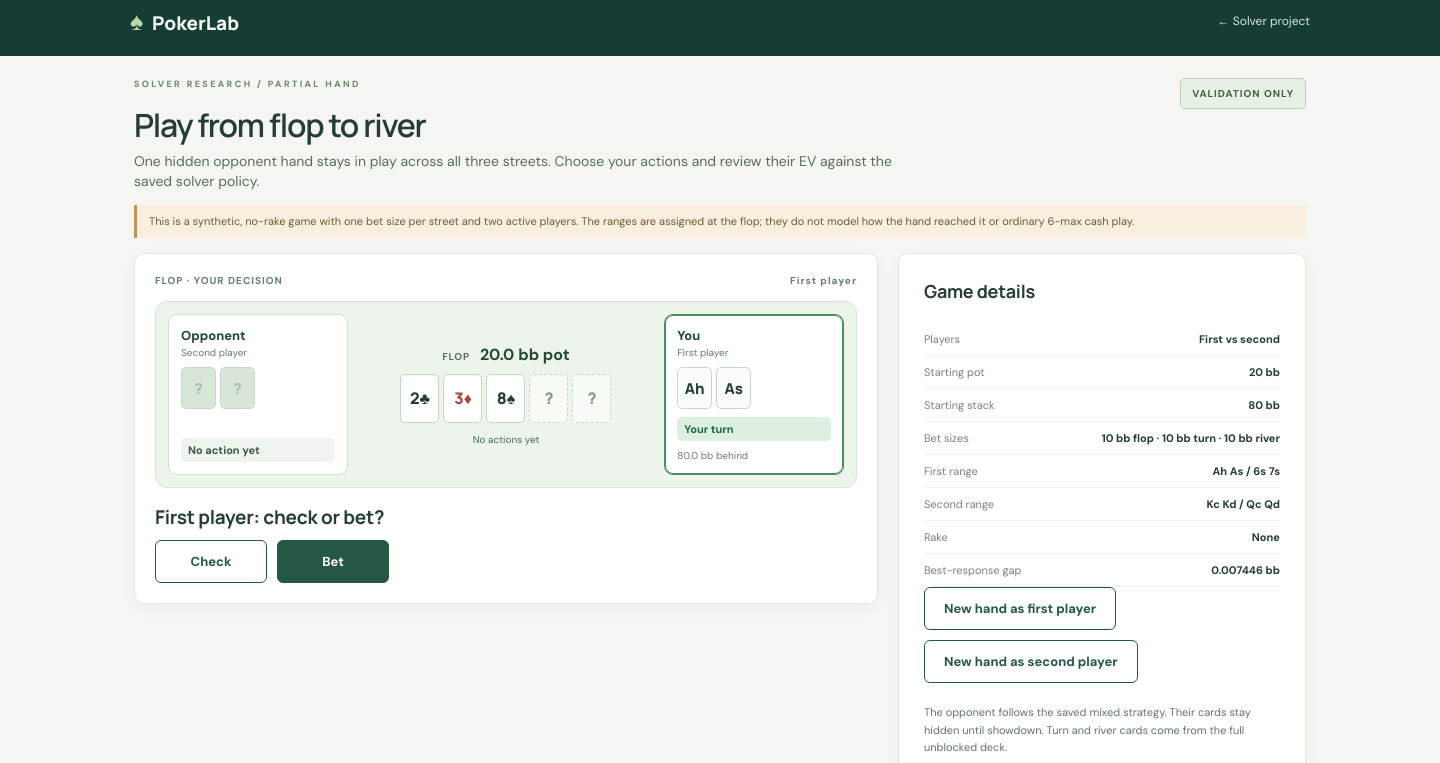
Test case: plays one connected three-street hand and reveals the opponent at showdown
Check: the heading "First player: check or bet?" is shown, box [155,504,384,530]
Check: the element named "Players and table" shows "20.0 bb pot", box [155,301,857,488]
Click the button "Check": (211, 562) [155,540,267,584]
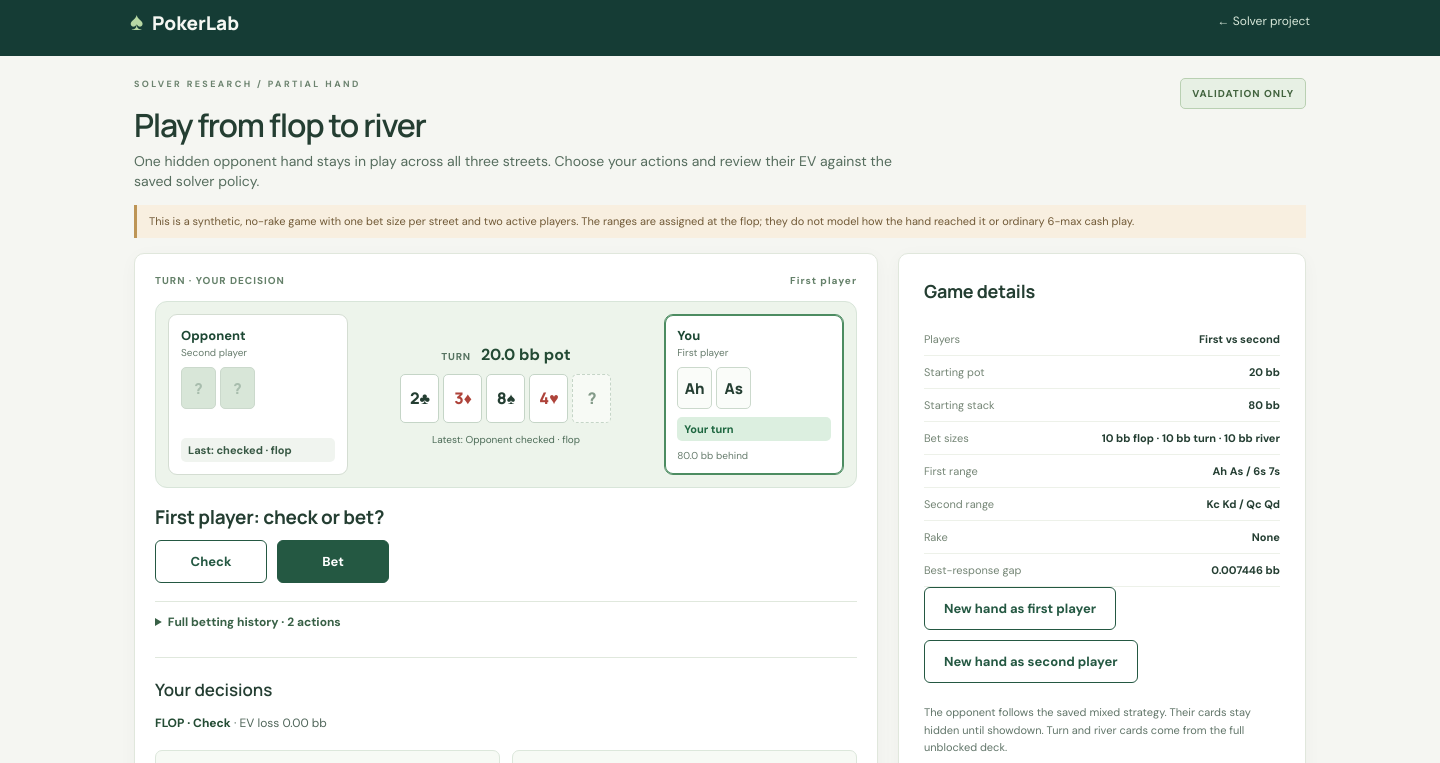
Check: the text "4♥" is shown, box [530,374,568,423]
Check: the element named "Players and table" shows "Latest: Opponent checked · flop", box [432,433,580,446]
Click the button "Check": (211, 562) [155,540,267,584]
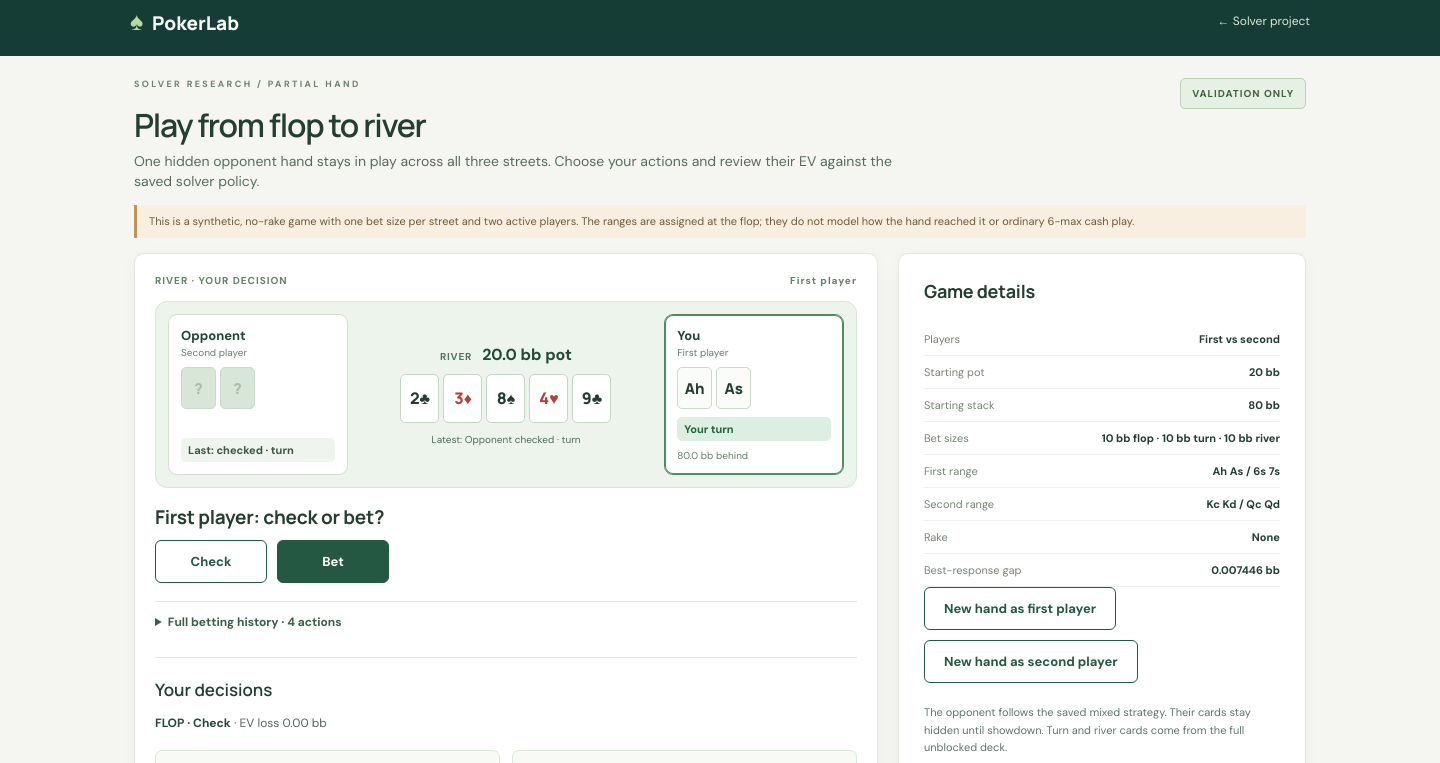
Check: the text "9♣" is shown, box [572,374,612,423]
Click the button "Check": (211, 562) [155,540,267,584]
(page scrolled)
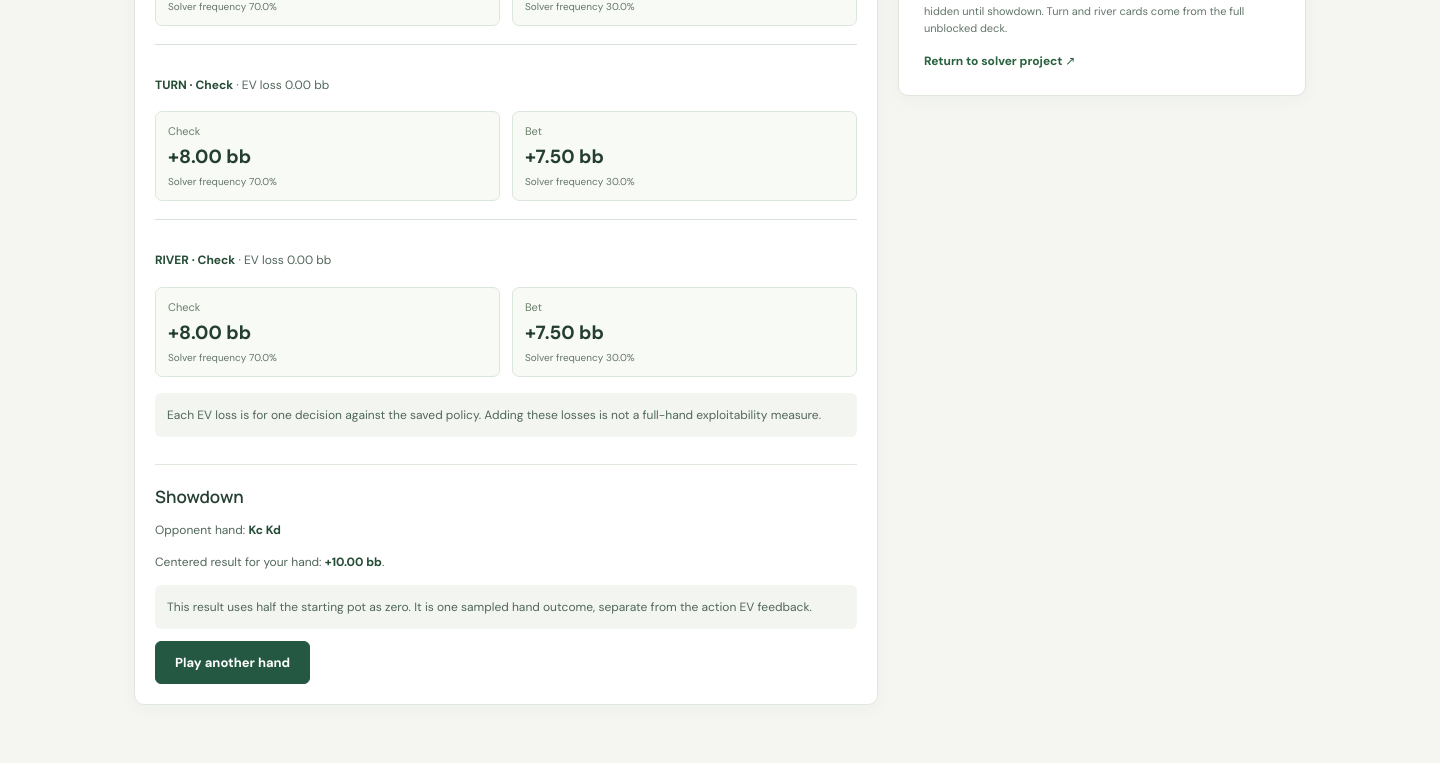
Check: the heading "Showdown" is shown, box [155,485,244,508]
Check: the text "Kc Kd" is shown, box [248,522,281,538]
